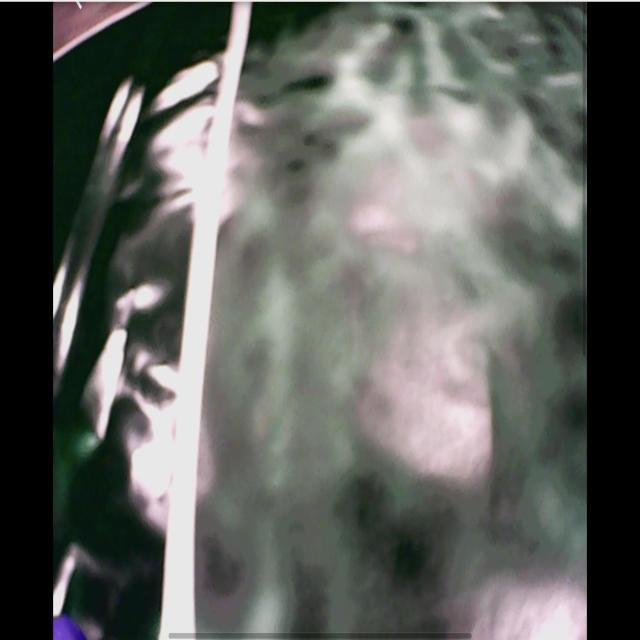ball: (55, 614, 87, 640)
